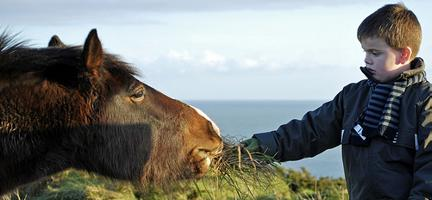person: (224, 4, 432, 200)
